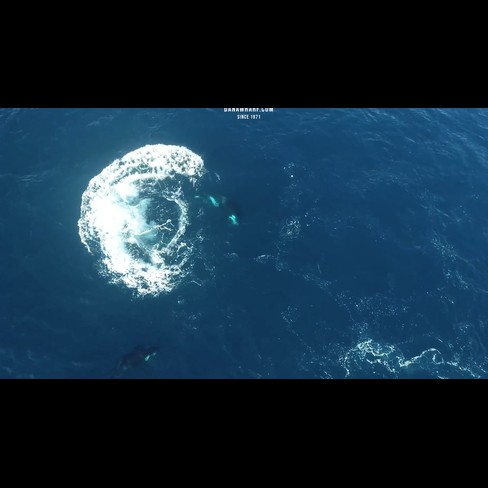orca: (194, 179, 245, 233), (115, 334, 165, 375)
